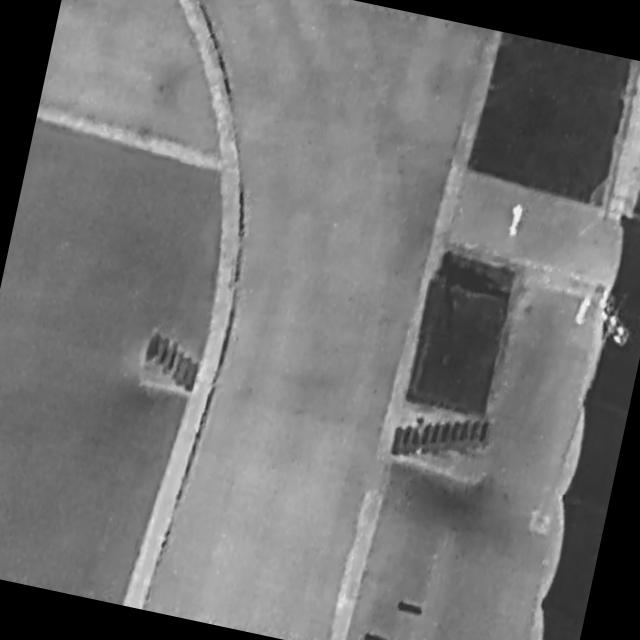person: (571, 292, 597, 331), (506, 199, 529, 240)
